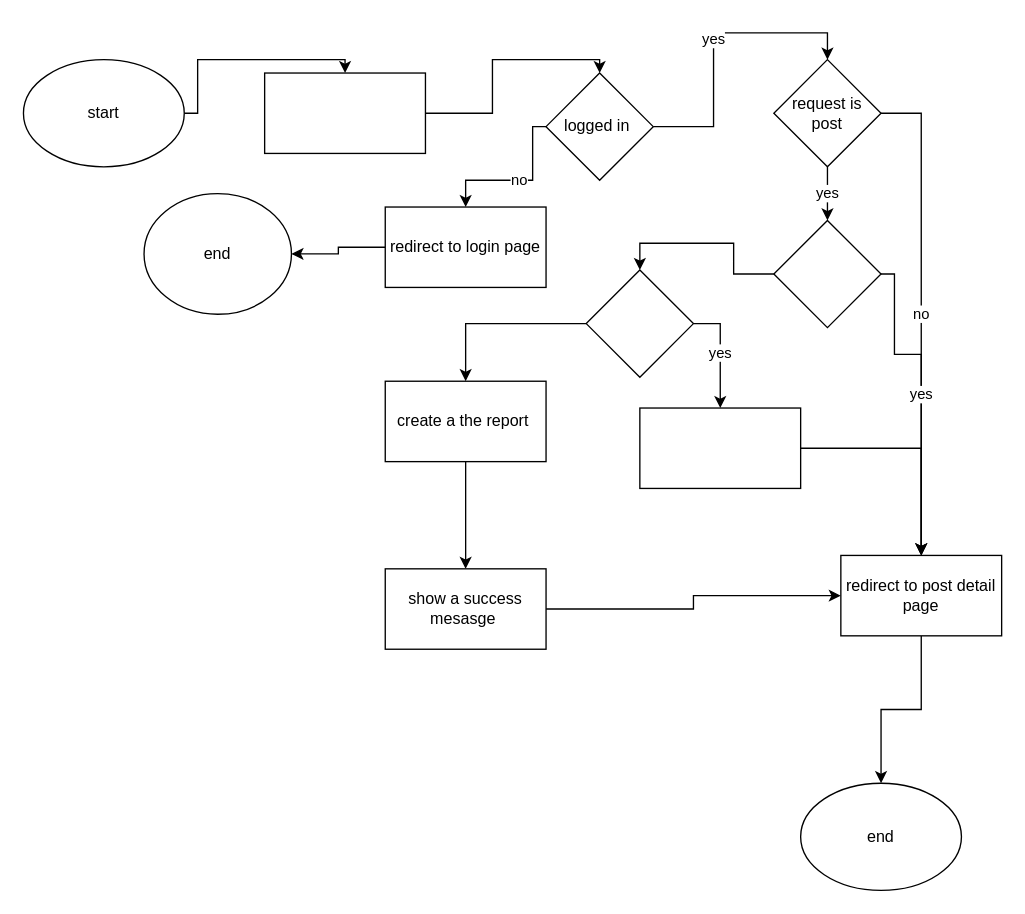
This 1025x914 diagram has some shape labels left out. Here are the shapes that lost their labels. From the top down, the centre of each, then its label:
At (344,112): "fetch request and pk".
At (827,273): "reason field is empty".
At (639,323): "user already reported the post".
At (720,447): "error message telling the user they already reported the post".
